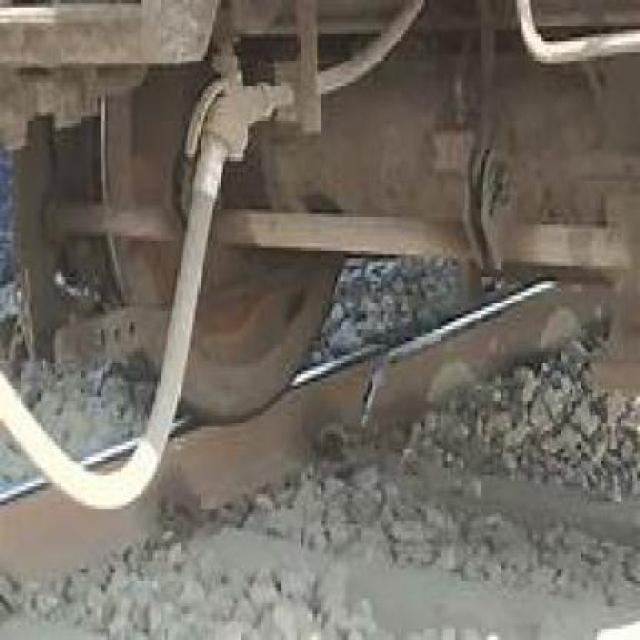defective: (333, 274, 531, 521)
